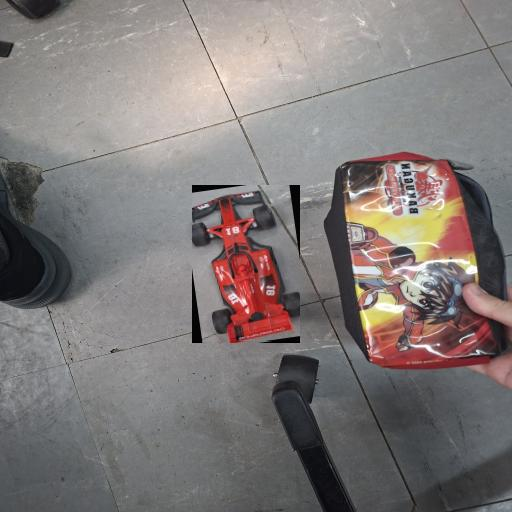carro: (192, 186, 300, 341)
